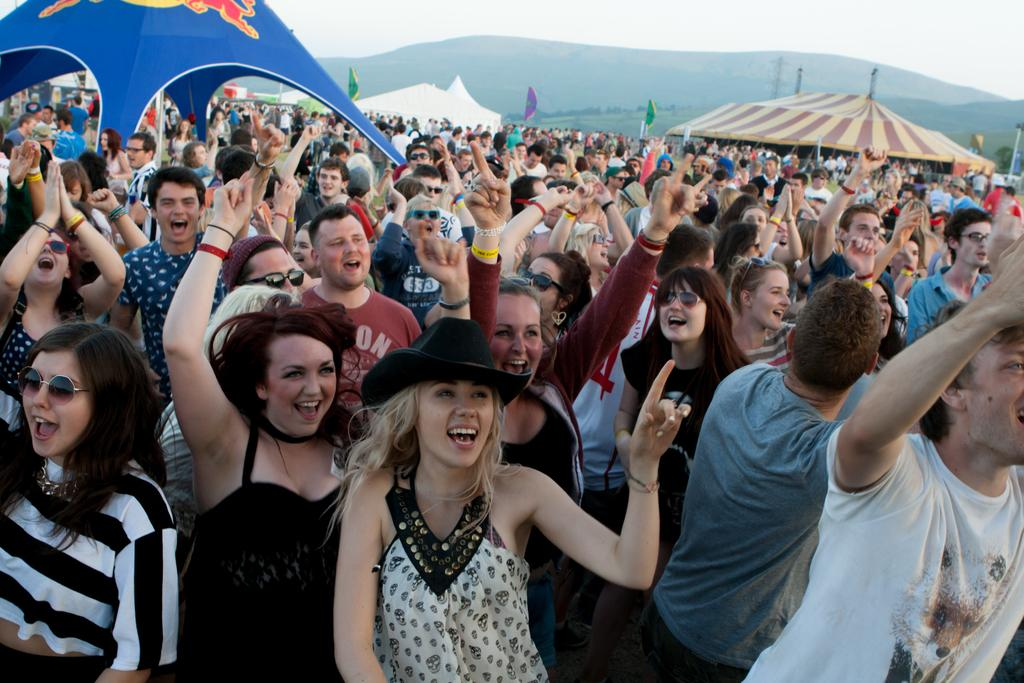Hat: (362, 313, 532, 414), (619, 178, 648, 208)
